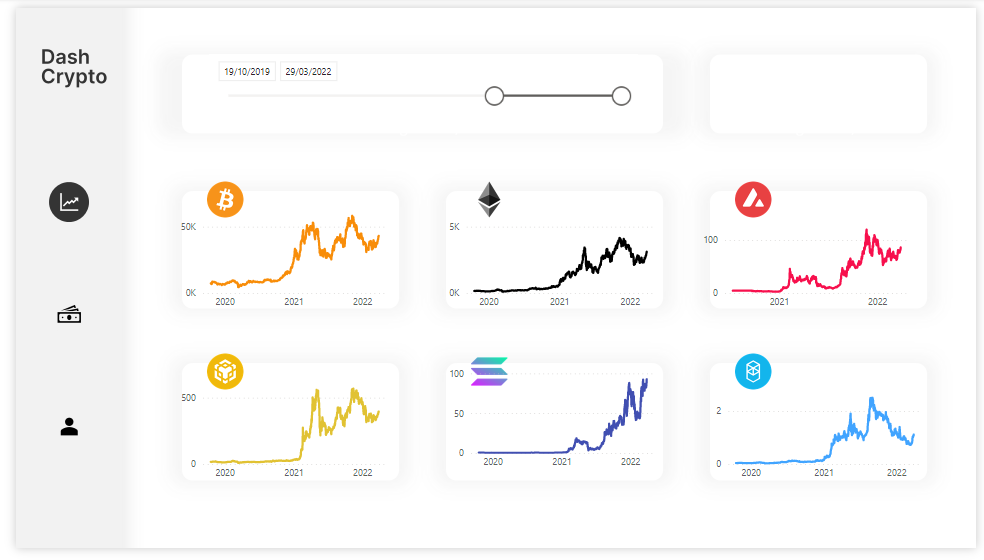

This screenshot's page, from the dashboard's own definition file:
{"tool":"powerbi","page":{"name":"Rapport Amélioré","canvas":[1280,720],"ordinal":1},"visuals":[{"type":"lineChart","fields":{"Y":["Sum(Requête1.Clôture)"],"Series":["Requête1.Crypto"],"Category":["Requête1.Date"]},"box":[215,260,286.7,150],"z":0},{"type":"lineChart","fields":{"Y":["Sum(Requête1.Clôture)"],"Series":["Requête1.Crypto"],"Category":["Requête1.Date"]},"box":[571.7,260,286.7,150],"z":1},{"type":"lineChart","fields":{"Y":["Sum(Requête1.Clôture)"],"Series":["Requête1.Crypto"],"Category":["Requête1.Date"]},"box":[215,488.3,286.7,150],"z":2},{"type":"lineChart","fields":{"Y":["Sum(Requête1.Clôture)"],"Series":["Requête1.Crypto"],"Category":["Requête1.Date"]},"box":[571.7,473.3,286.7,150],"z":3},{"type":"lineChart","fields":{"Y":["Sum(Requête1.Clôture)"],"Series":["Requête1.Crypto"],"Category":["Requête1.Date"]},"box":[928.3,488.3,286.7,150],"z":4},{"type":"lineChart","fields":{"Y":["Sum(Requête1.Clôture)"],"Series":["Requête1.Crypto"],"Category":["Requête1.Date"]},"box":[910,260,286.7,150],"z":5},{"type":"slicer","fields":{"Values":["Requête1.Date"]},"box":[257.3,60.8,571.7,97.6],"z":6}]}

Visuals, with their boxes on the page's 1280x720 design canvas (x1, y1, x2, y2). These are canvas units, not pixel positions in the 984x560 screenshot, which may show the page scaled, cropped or inside an application window:
lineChart - Sum(Requête1.Clôture) x Requête1.Crypto: <bbox>215, 260, 502, 410</bbox>
lineChart - Sum(Requête1.Clôture) x Requête1.Crypto: <bbox>572, 260, 858, 410</bbox>
lineChart - Sum(Requête1.Clôture) x Requête1.Crypto: <bbox>215, 488, 502, 638</bbox>
lineChart - Sum(Requête1.Clôture) x Requête1.Crypto: <bbox>572, 473, 858, 623</bbox>
lineChart - Sum(Requête1.Clôture) x Requête1.Crypto: <bbox>928, 488, 1215, 638</bbox>
lineChart - Sum(Requête1.Clôture) x Requête1.Crypto: <bbox>910, 260, 1197, 410</bbox>
slicer - Requête1.Date: <bbox>257, 61, 829, 158</bbox>
